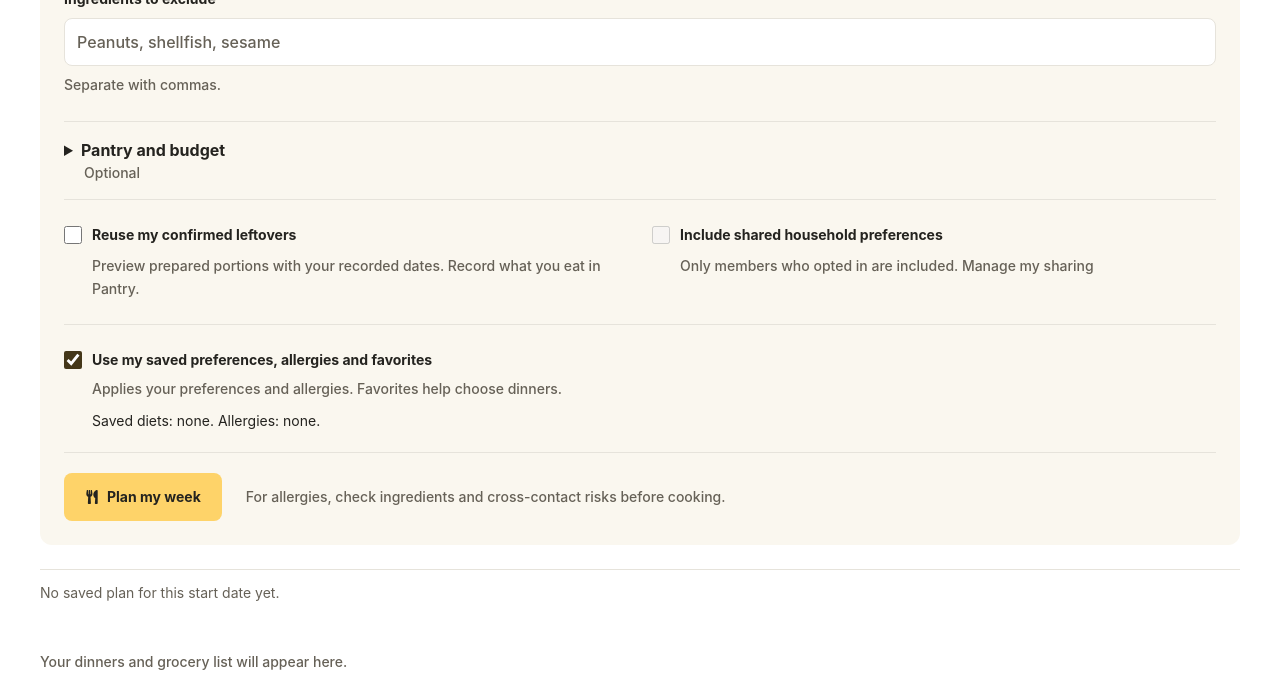
Test: actual MealPlanner page smoke › respects an authenticated saved-profile opt-out without marking the generated plan as edited
The image size is (1280, 686).
(page scrolled)
Check: the button "Plan my week" is enabled, box [64,473,222,521]
Click the checkbox labelled "Use my saved preferences, allergies and favorites" at (73,360), box [64,351,82,369]
(page scrolled)
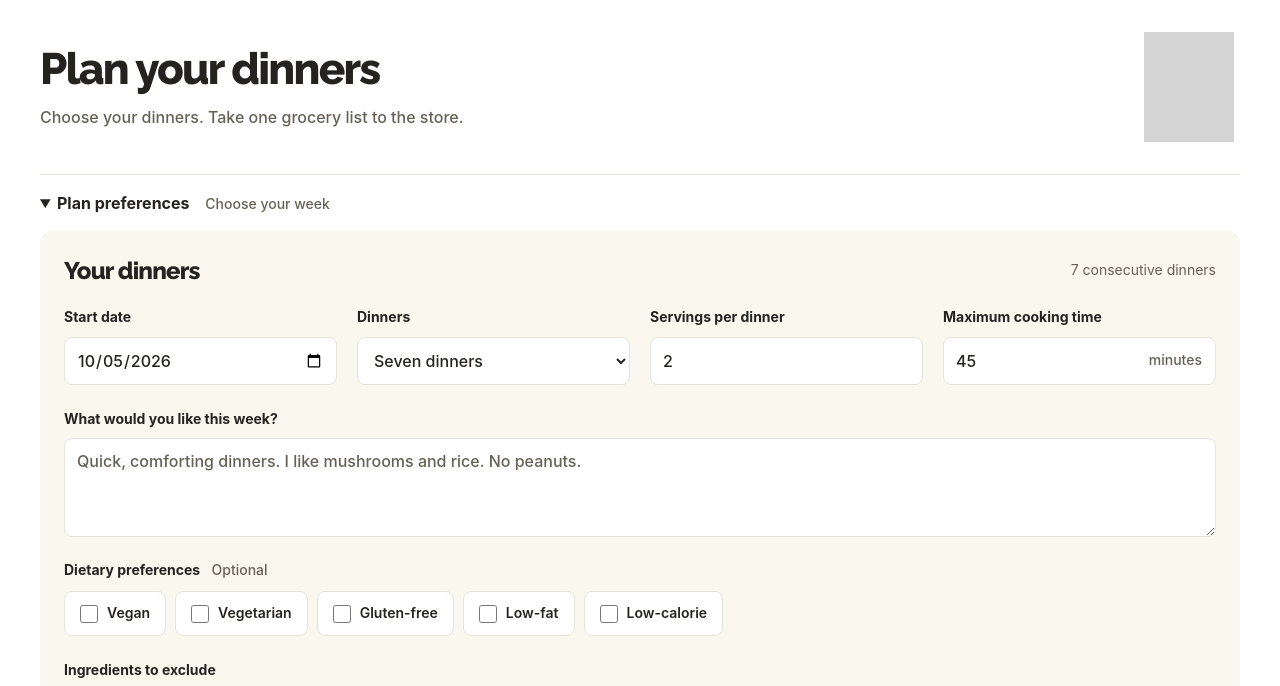
Select "One dinner" in the dropdown labelled "Dinners" at (494,361), box [357,337,630,385]
(page scrolled)
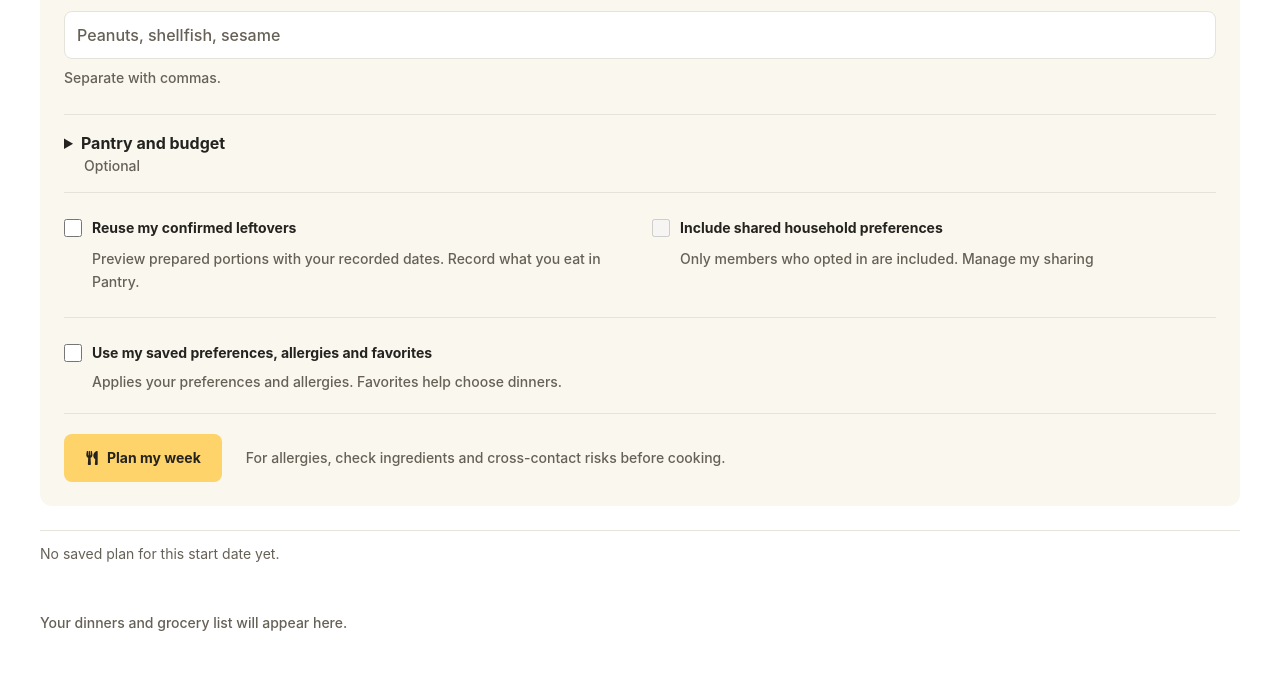
Click the button "Plan my week" at (143,458), box [64,434,222,482]
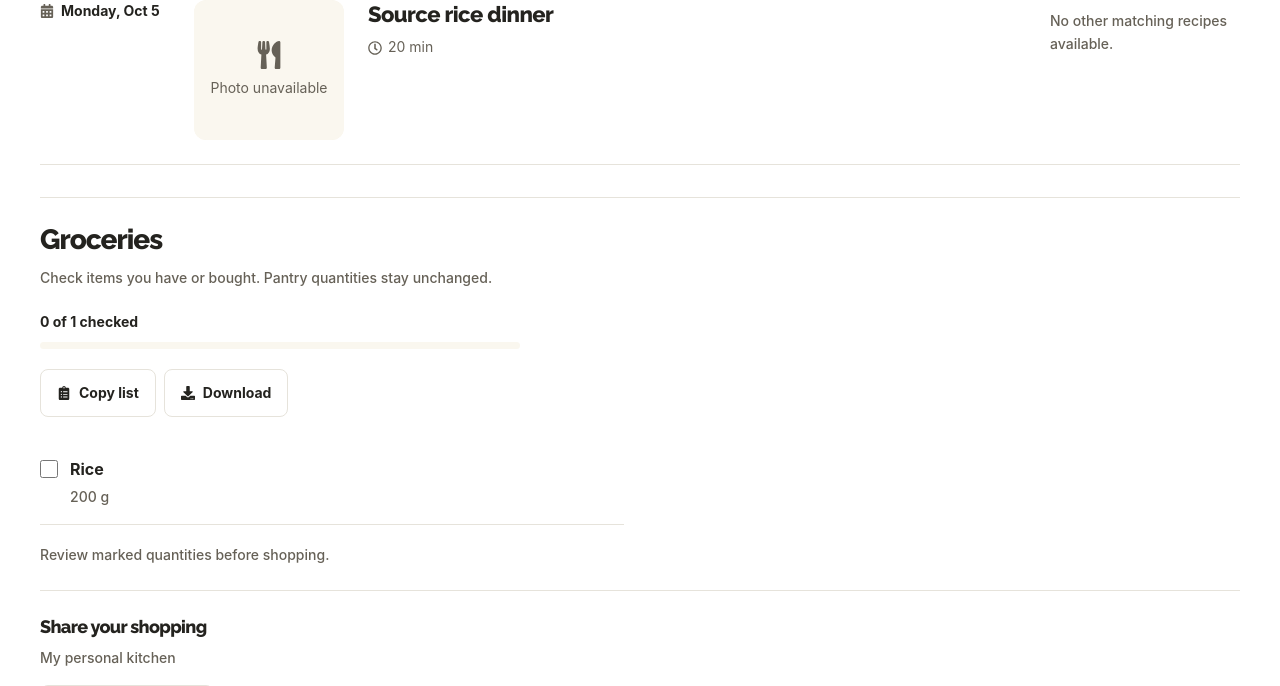
Check: the link "Source rice dinner" is shown, box [368,1,553,27]
